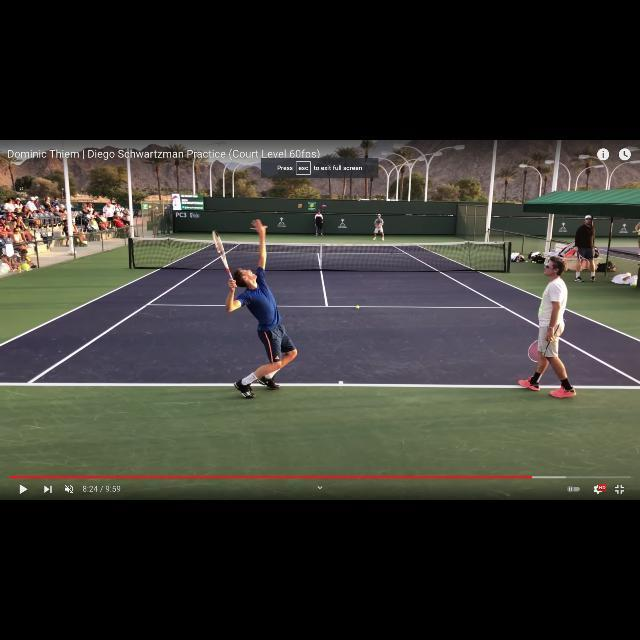tennis-ball: (355, 305, 359, 309)
